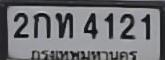1: (140, 13, 149, 39), (104, 12, 112, 38)
2: (119, 12, 134, 38), (13, 12, 28, 36)
4: (83, 12, 97, 38)
A01: (32, 12, 50, 38)
A23: (55, 12, 72, 38)
BKK: (29, 46, 139, 60)
